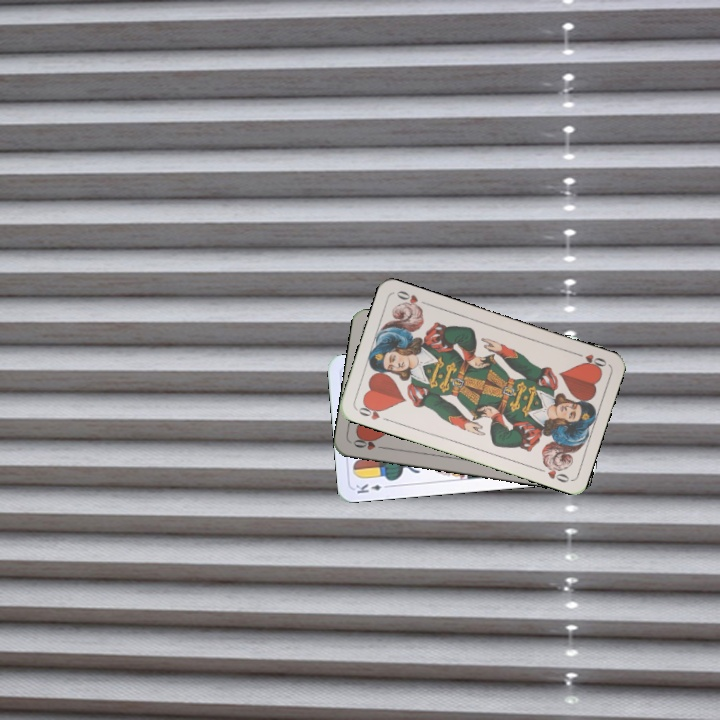EK: (352, 479, 393, 496)
HO: (353, 400, 393, 424), (570, 348, 609, 372), (349, 433, 389, 453)
